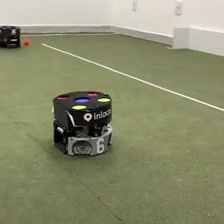ball: (22, 37, 30, 45)
goal: (170, 25, 224, 57)
robot: (51, 89, 115, 157), (1, 24, 21, 49)
